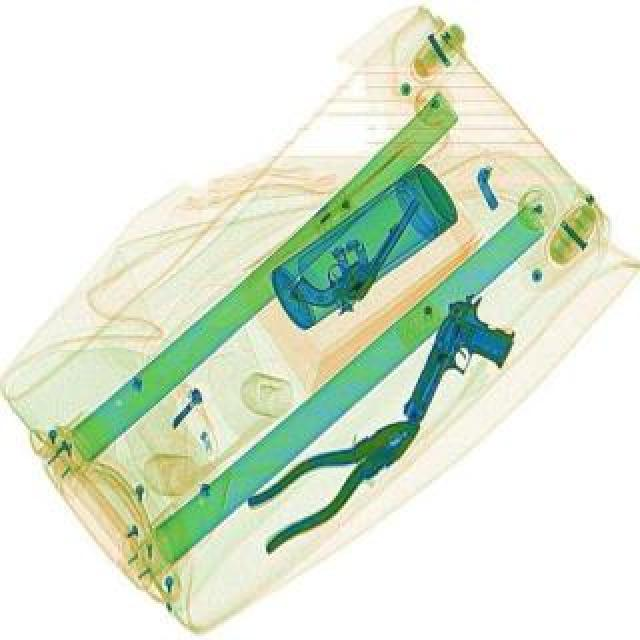gun: (286, 174, 426, 328), (396, 288, 526, 448)
wrench: (232, 400, 438, 560)
